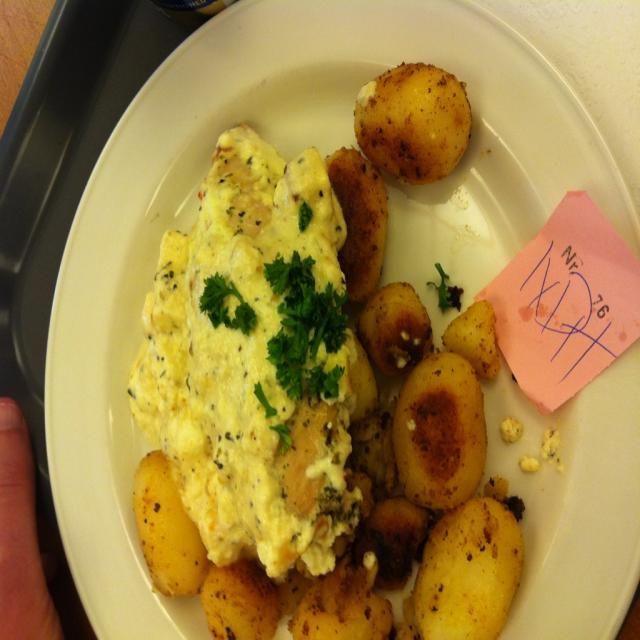Potato: (346, 57, 479, 175)
